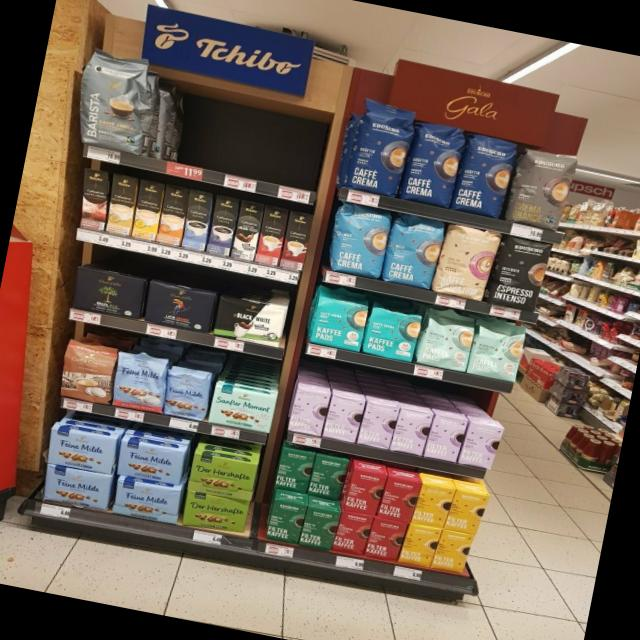BM Gemahlen: (68, 265, 147, 322)
BW Gemahlen: (212, 295, 290, 349)
Barista CC: (66, 43, 164, 157)
CC Vollmundig: (56, 338, 120, 406)
Empty Shelf: (151, 66, 335, 192)
FM 36 Pads: (109, 349, 173, 416)
FM Bohne: (160, 364, 216, 424)
FM Gemahlen: (44, 426, 119, 477), (111, 476, 186, 526), (114, 438, 188, 488), (40, 463, 114, 512)
Herzhatfe Mundig: (182, 488, 252, 538), (187, 454, 258, 502)
LG Gemahlen: (142, 280, 219, 336)
SM Gemahlen: (207, 382, 278, 434)
Simo CC Colombia: (74, 168, 114, 231)
Simo CCMild bigpack: (130, 178, 166, 241)
Simo CCVollmundig bigpack: (156, 184, 192, 248)
Simo Decaff: (102, 172, 141, 236)
Simo Es Brazil: (255, 205, 288, 266)
Simo Es Caramel: (278, 210, 312, 272)
Simo Es Elegant: (229, 199, 265, 262)
Simo Es Kraft: (206, 194, 240, 256)
Simo Es Vanilla: (180, 189, 216, 252)
